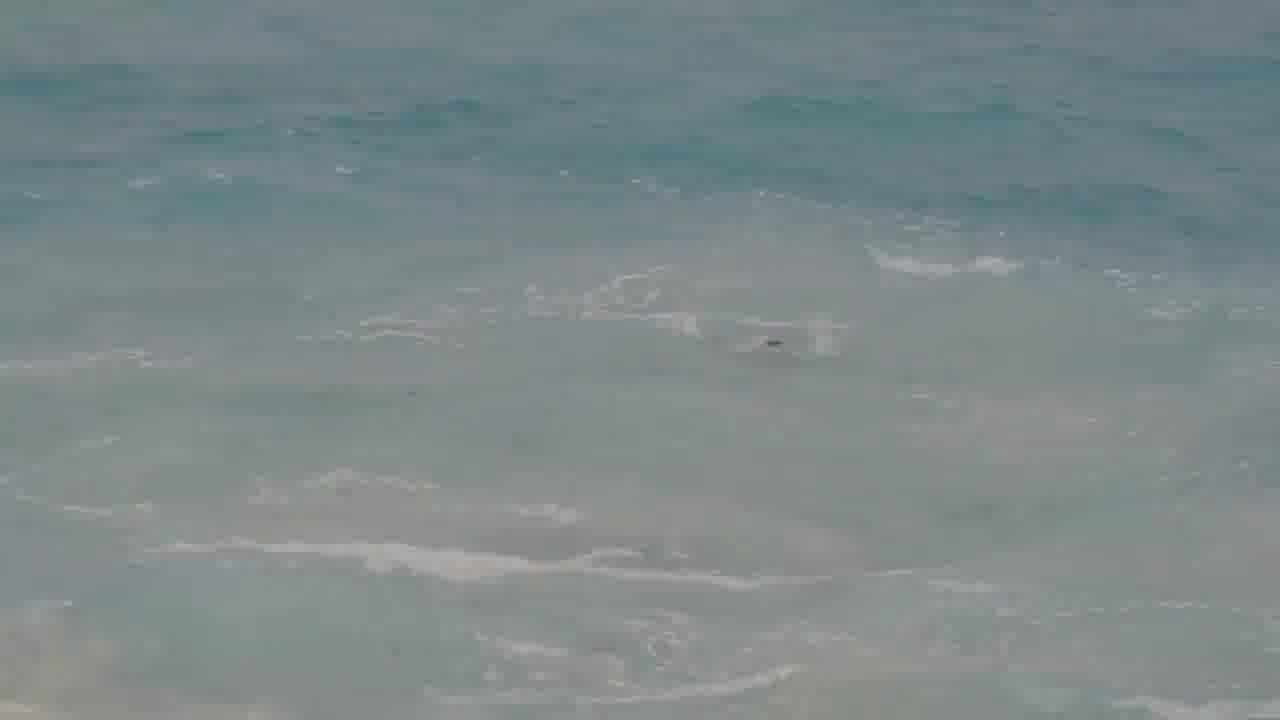human: (755, 329, 795, 362)
